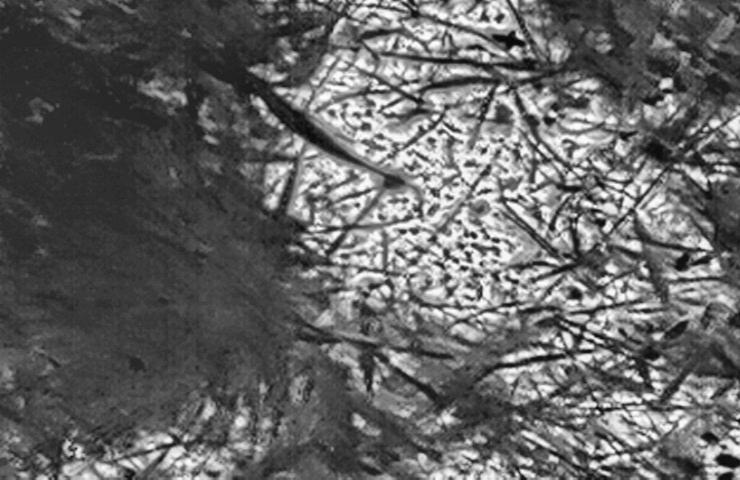landmines: (245, 3, 712, 385)
